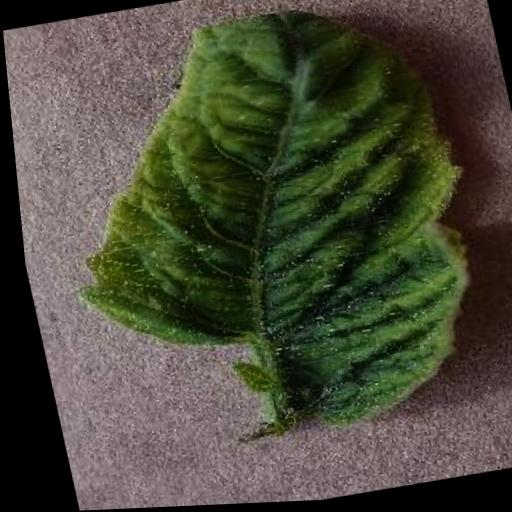Yellow Leaf Curl Virus: (20, 0, 505, 467)
